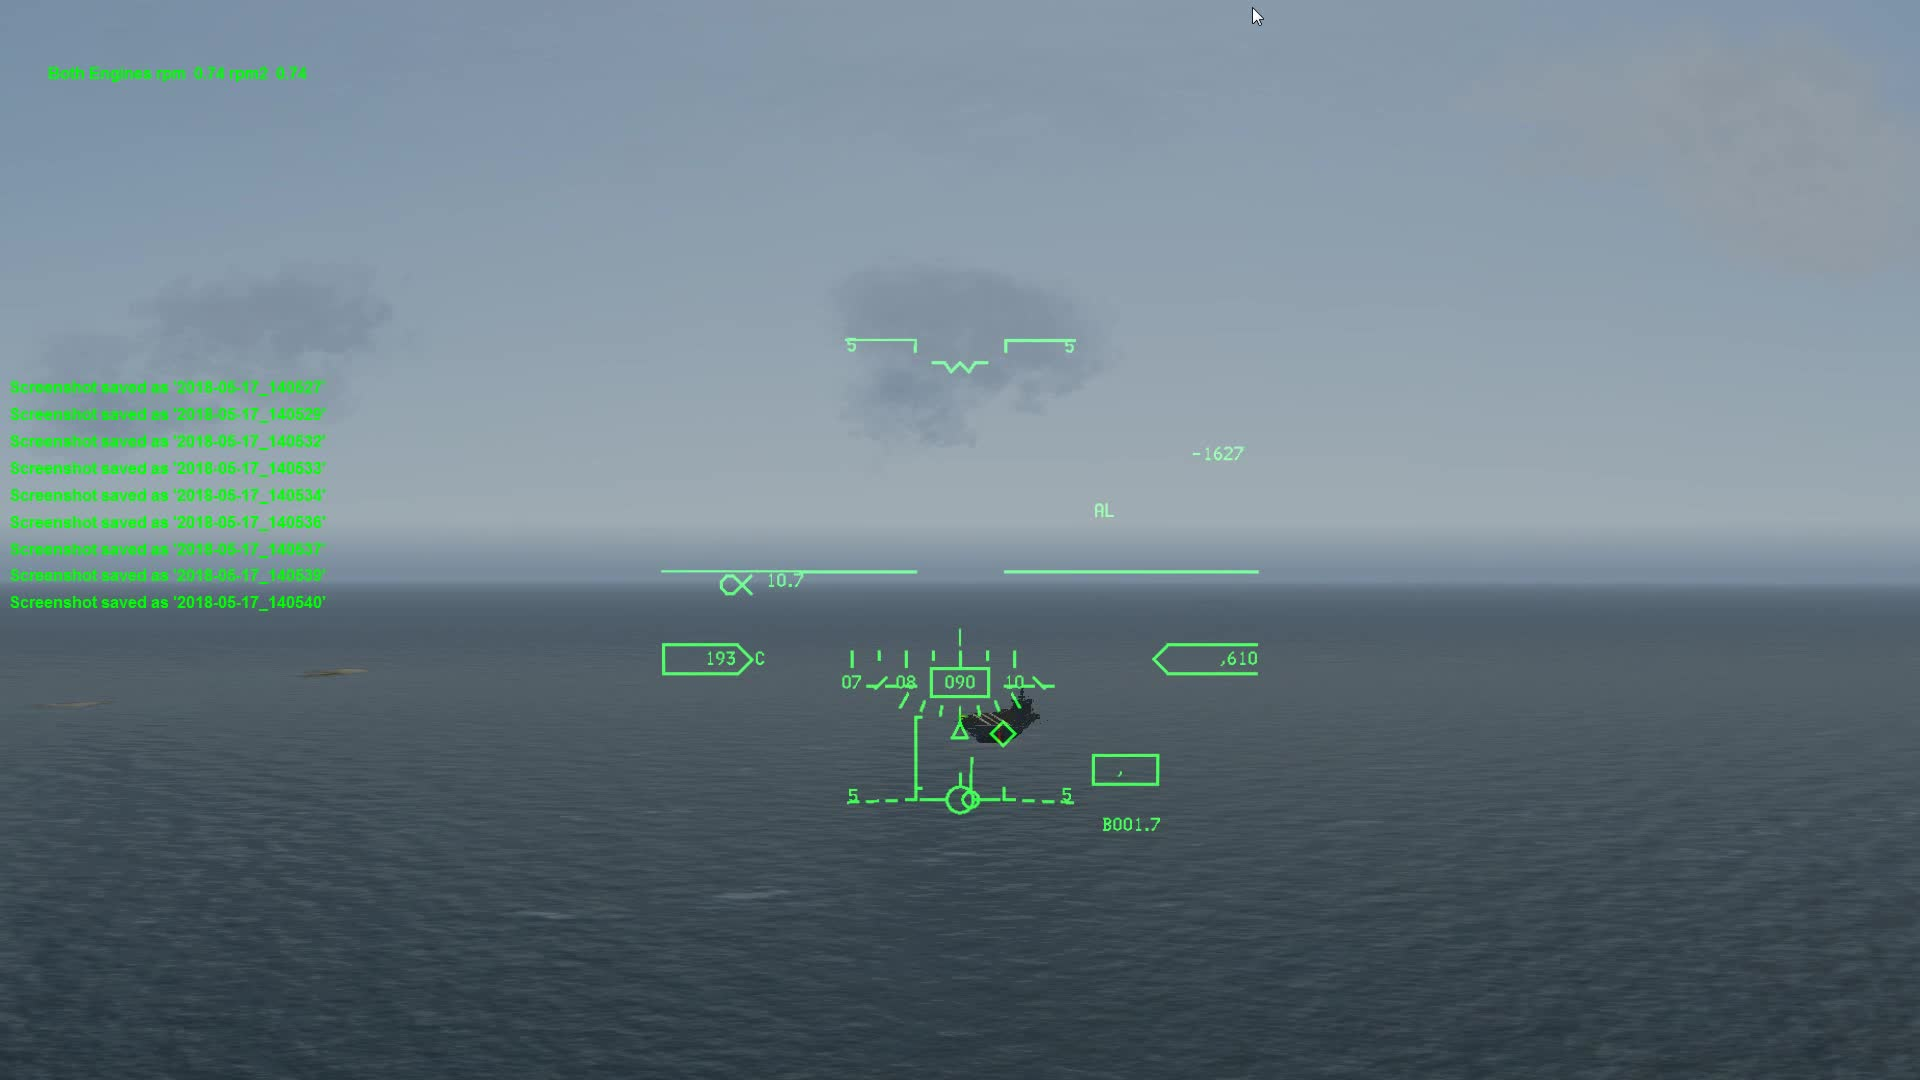speed vector: (922, 764, 998, 818)
